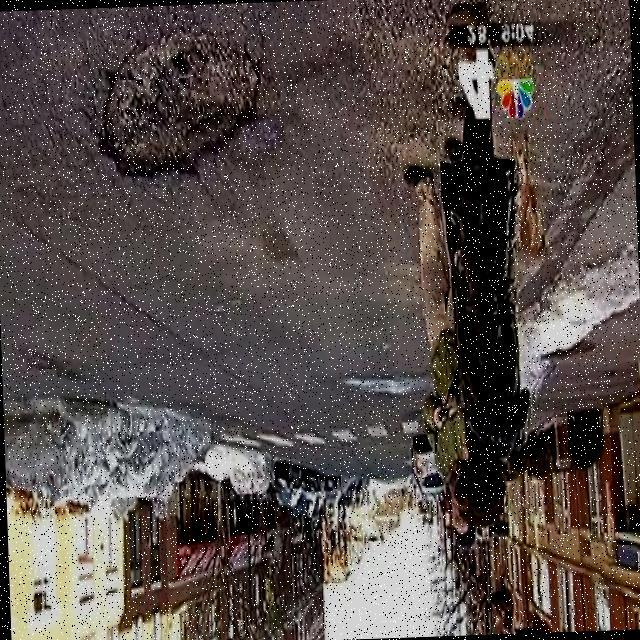Pothole: (97, 32, 264, 177)
